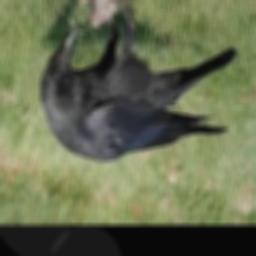Crow: (42, 4, 236, 162)
